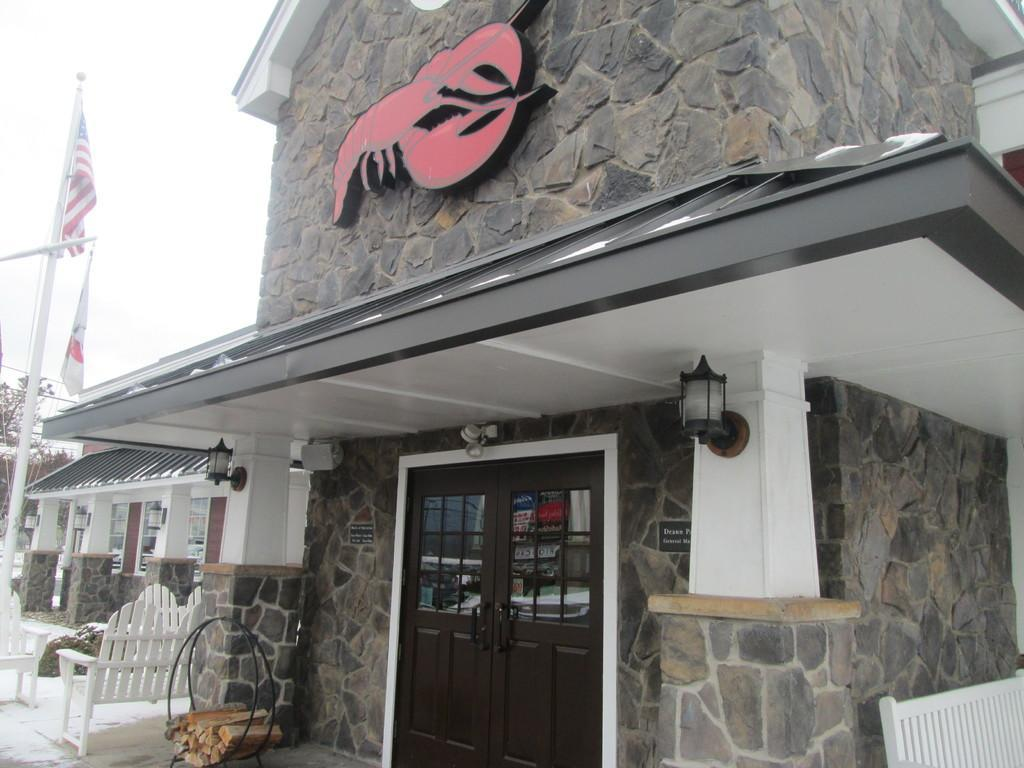door: (505, 473, 595, 768), (414, 481, 492, 754)
handle: (464, 602, 486, 652), (494, 605, 514, 659)
